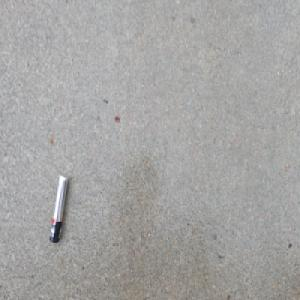Battery: (48, 172, 69, 245)
